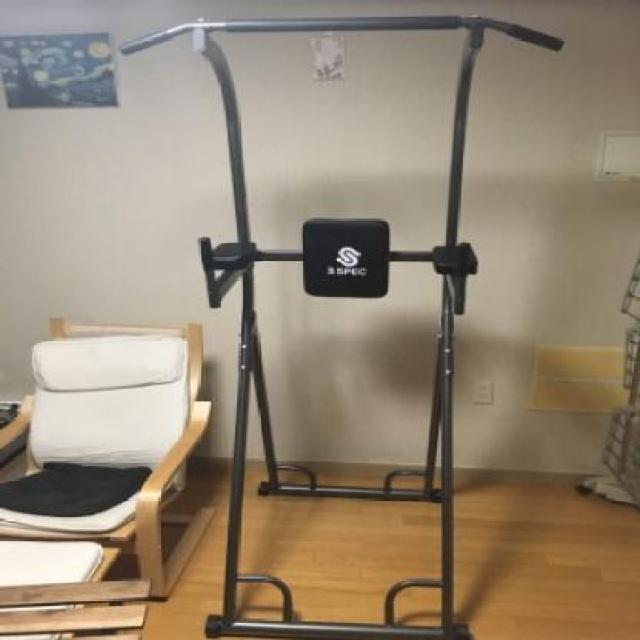chinning dipping: (120, 15, 565, 640)
